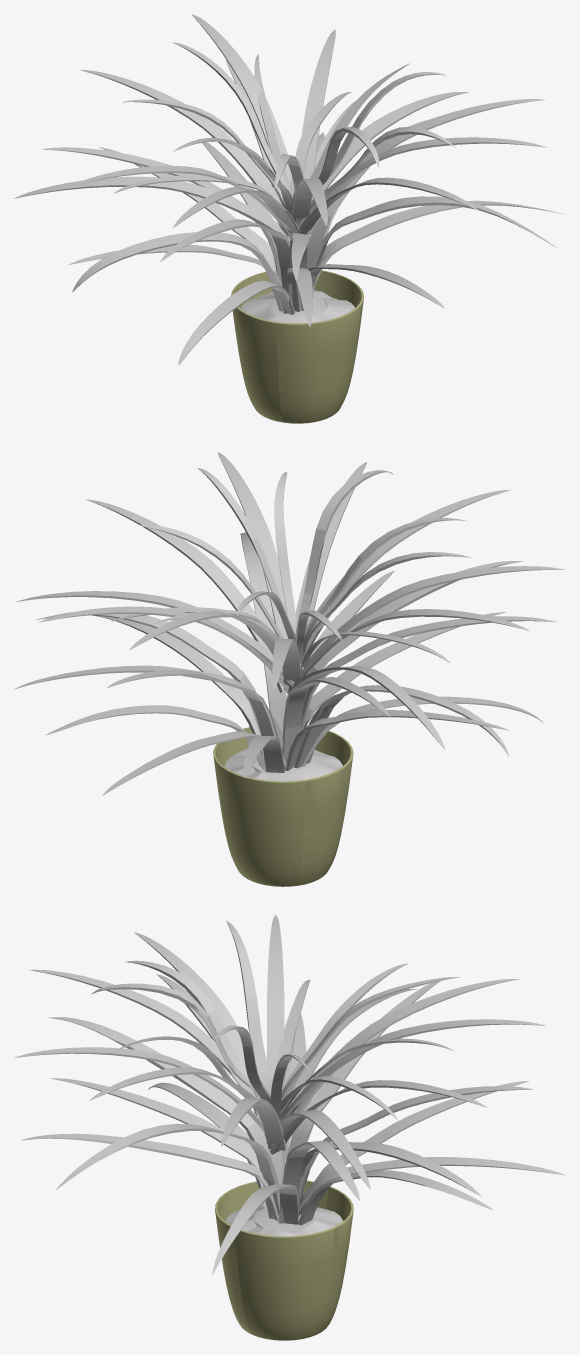
File: houseplant.obj
The picture shows the model from 3 angles, top to bottom: view 1: azimuth 30°, elevation 25°; view 2: azimuth 150°, elevation 25°; view 3: azimuth 270°, elevation 25°; orthographic projection. The views are drawn at different scales.
Parts seen in each view (by area): view 1: (null); view 2: (null); view 3: (null).
Part boxes in pixels (x1,y1,x2,y2): (null): (14, 14, 563, 423); (null): (14, 452, 565, 886); (null): (14, 915, 565, 1340).
Bounding box in the file's own units: 474 × 322 × 469.
